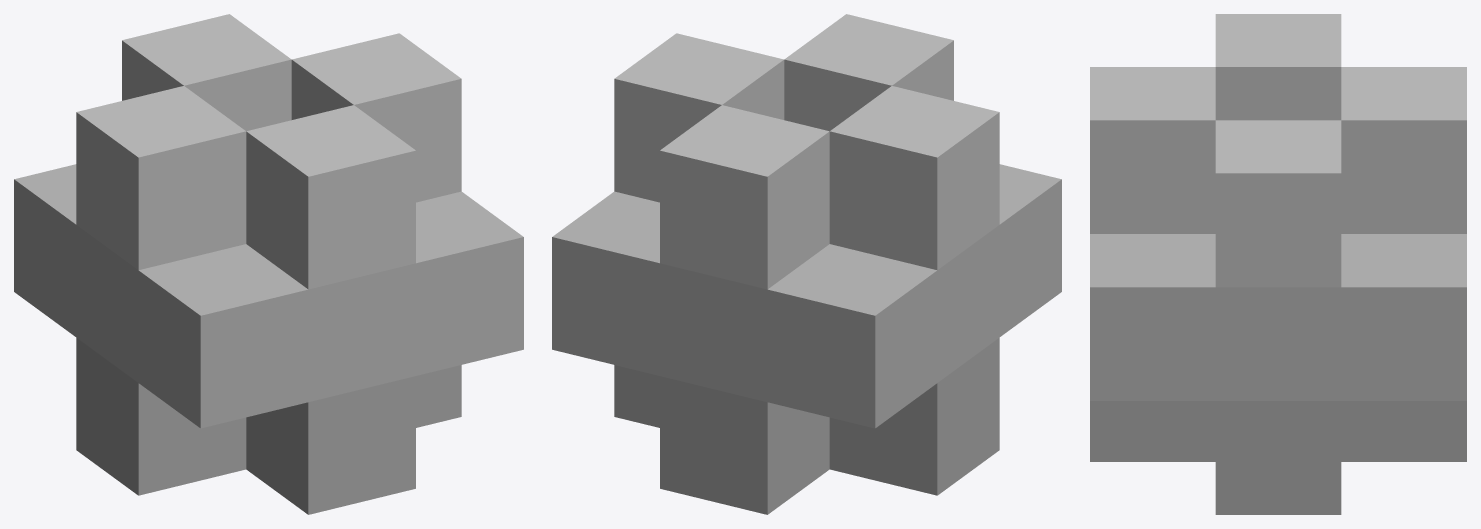
The model's file is Flower1-0.obj.
3 renders of one model, left to right at view 1: azimuth 30°, elevation 25°; view 2: azimuth 150°, elevation 25°; view 3: azimuth 270°, elevation 25°, orthographic.
Size of the model in its own units: 0.3 by 0.3 by 0.3.
Materials: 1 (1 with a texture image).
